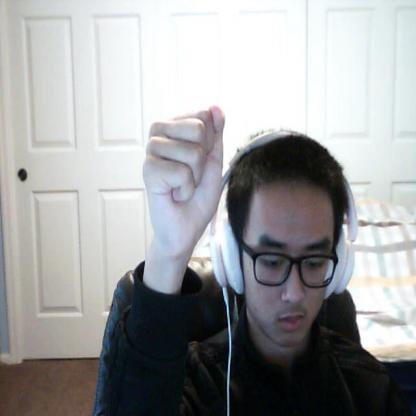fist: (140, 105, 228, 250)
